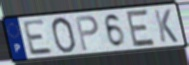6: (103, 13, 127, 49)
E: (21, 18, 55, 57), (125, 9, 157, 49)
K: (152, 8, 180, 44)
O: (50, 15, 77, 55)
P: (74, 14, 100, 52)
